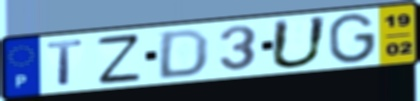3: (216, 24, 259, 73)
D: (155, 27, 212, 81)
G: (327, 12, 378, 66)
T: (45, 38, 87, 88)
U: (267, 14, 331, 71)
Z: (94, 32, 143, 86)
